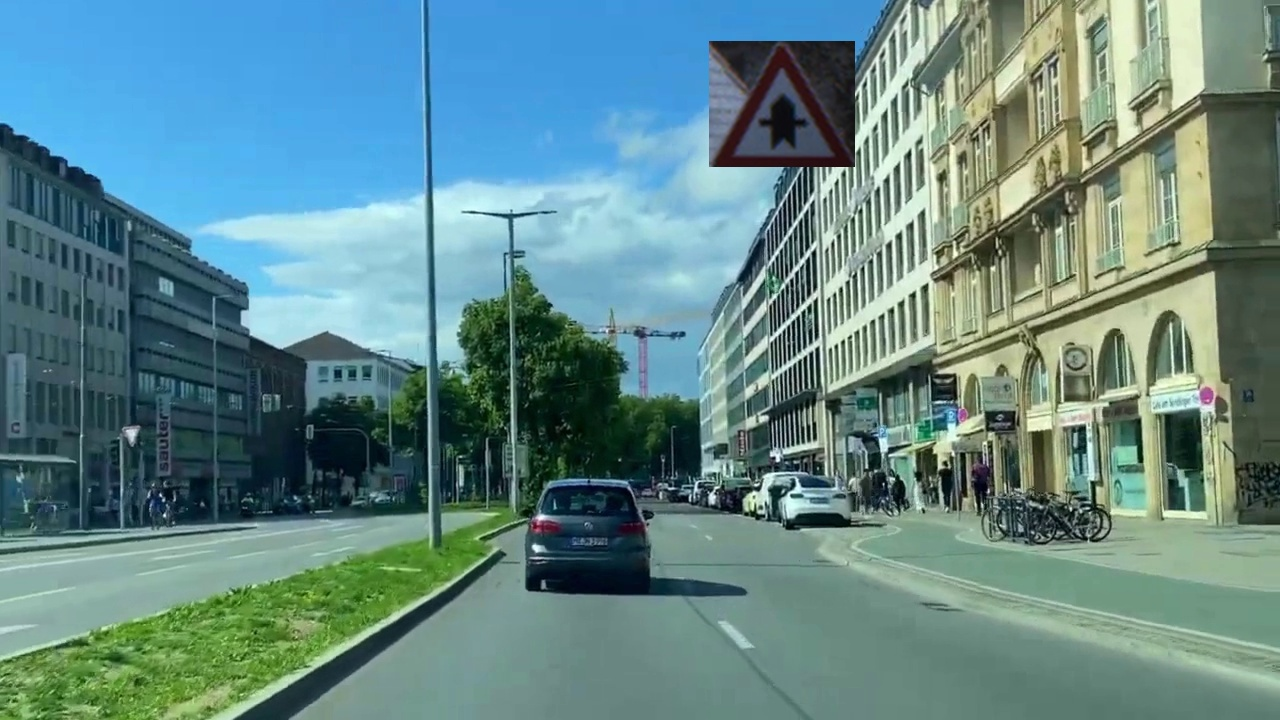Right-of-way: (709, 41, 855, 167)
